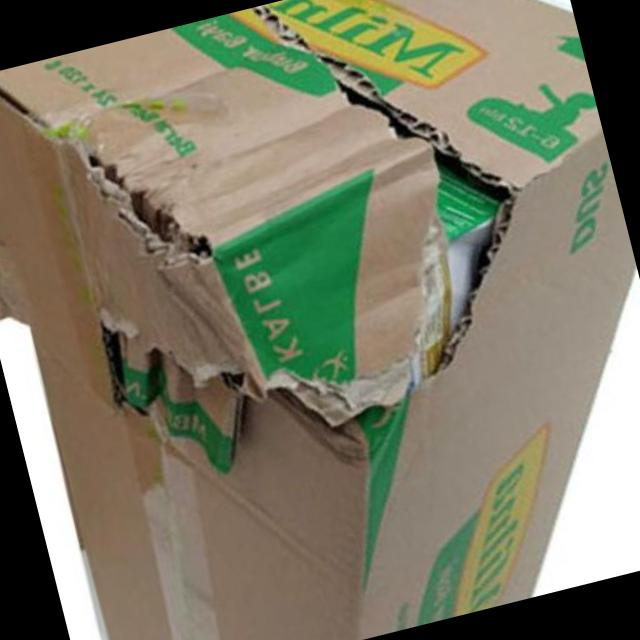box: (82, 137, 560, 563)
